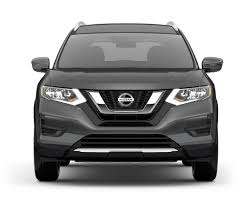Nissan: (40, 24, 219, 179)
